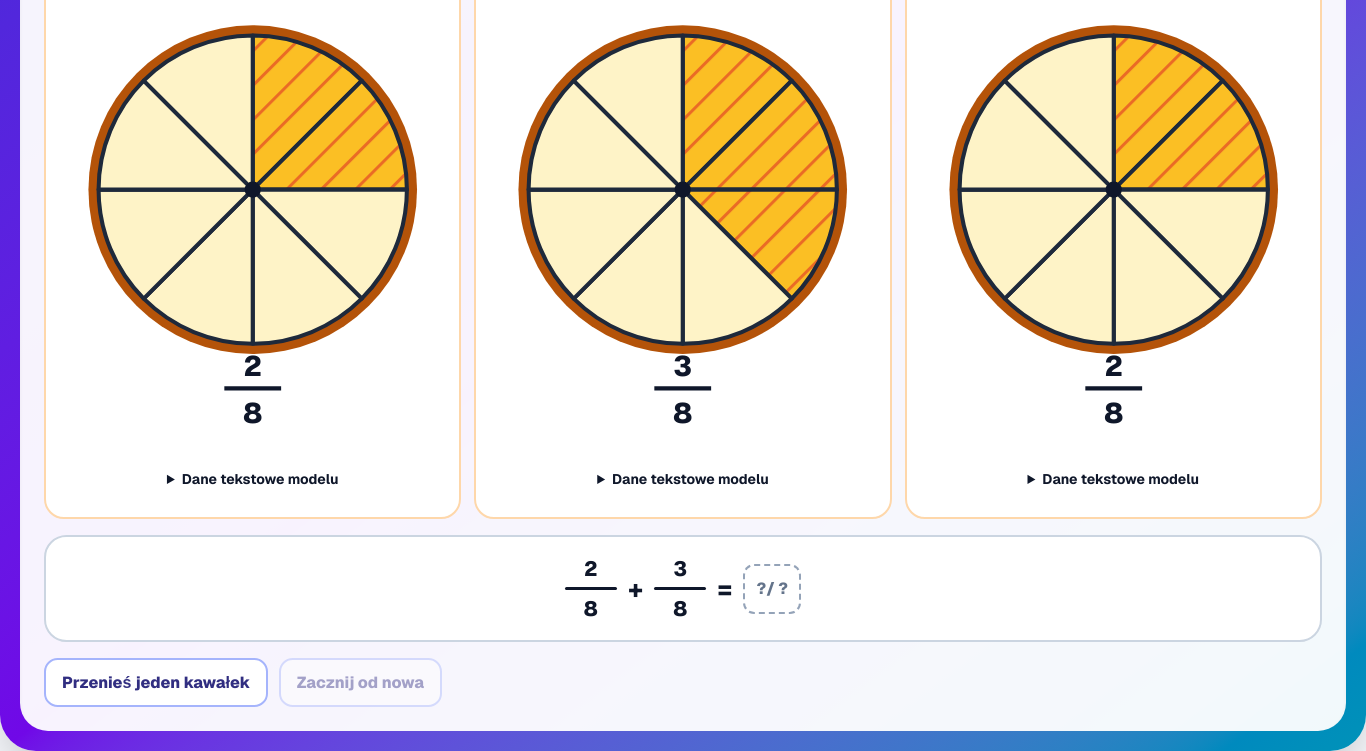
FractionSameDenominatorLessonModel — zapis pionowy, ruch i diagnostyka › przenosi trzy kawałki pizzy i aktualizuje 2/8 + 3/8 do 5/8 w czasie rzeczywistym
(page scrolled)
Click the button "Przenieś jeden kawałek" at (156, 683), box [44, 658, 268, 707]
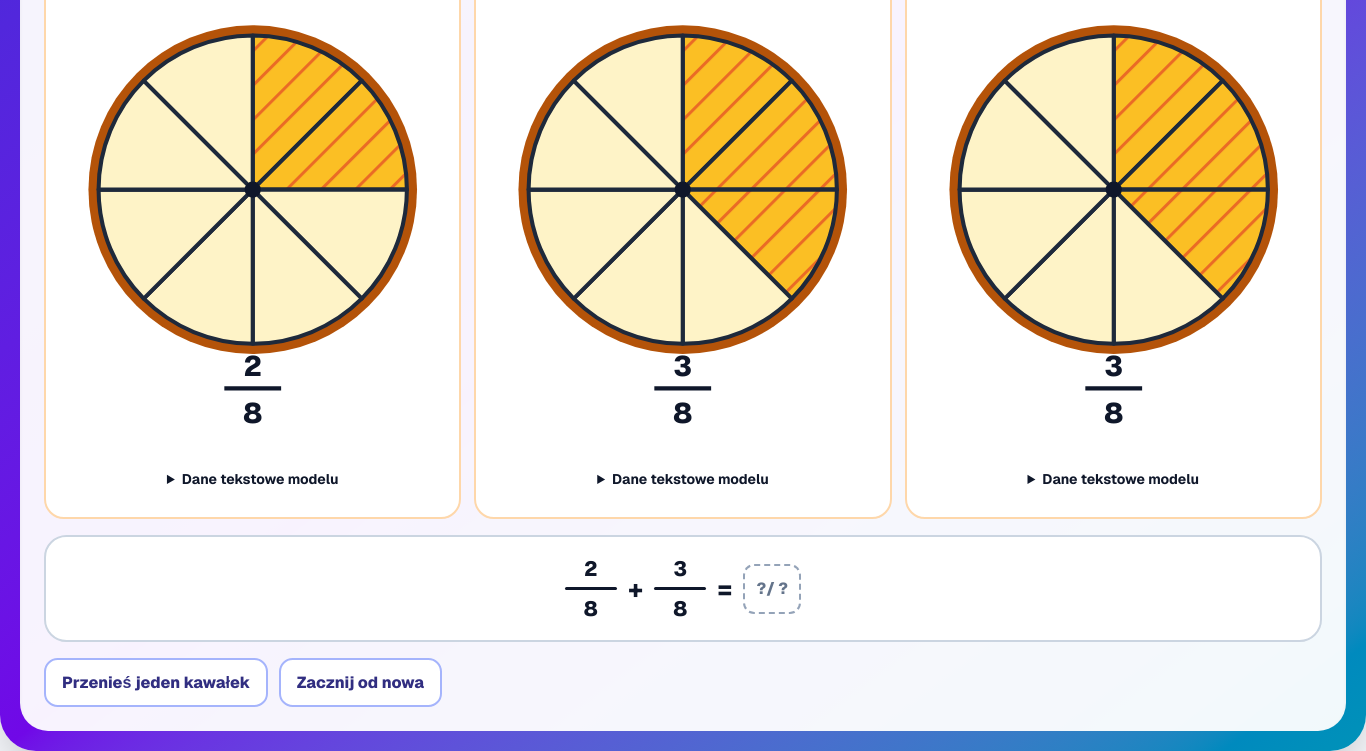
Click the button "Przenieś jeden kawałek" at (156, 683), box [44, 658, 268, 707]
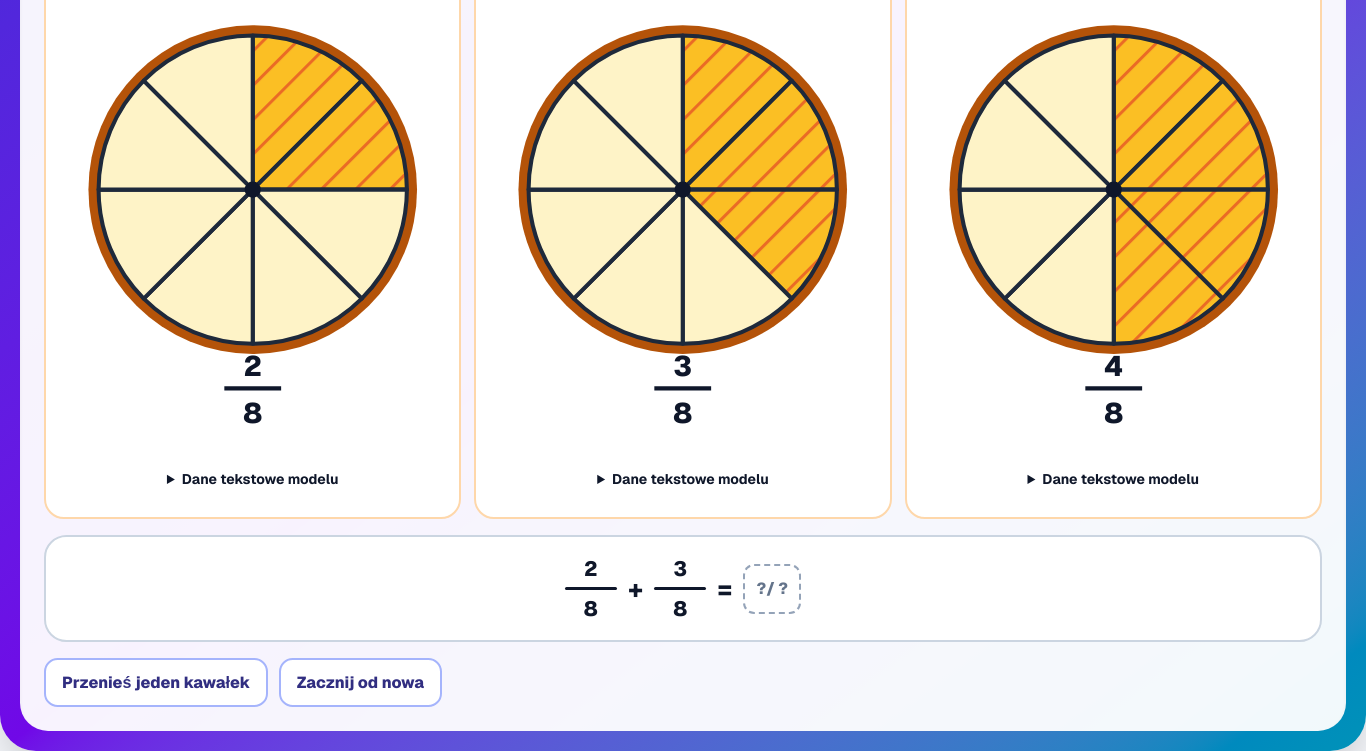
Click the button "Przenieś jeden kawałek" at (156, 683), box [44, 658, 268, 707]
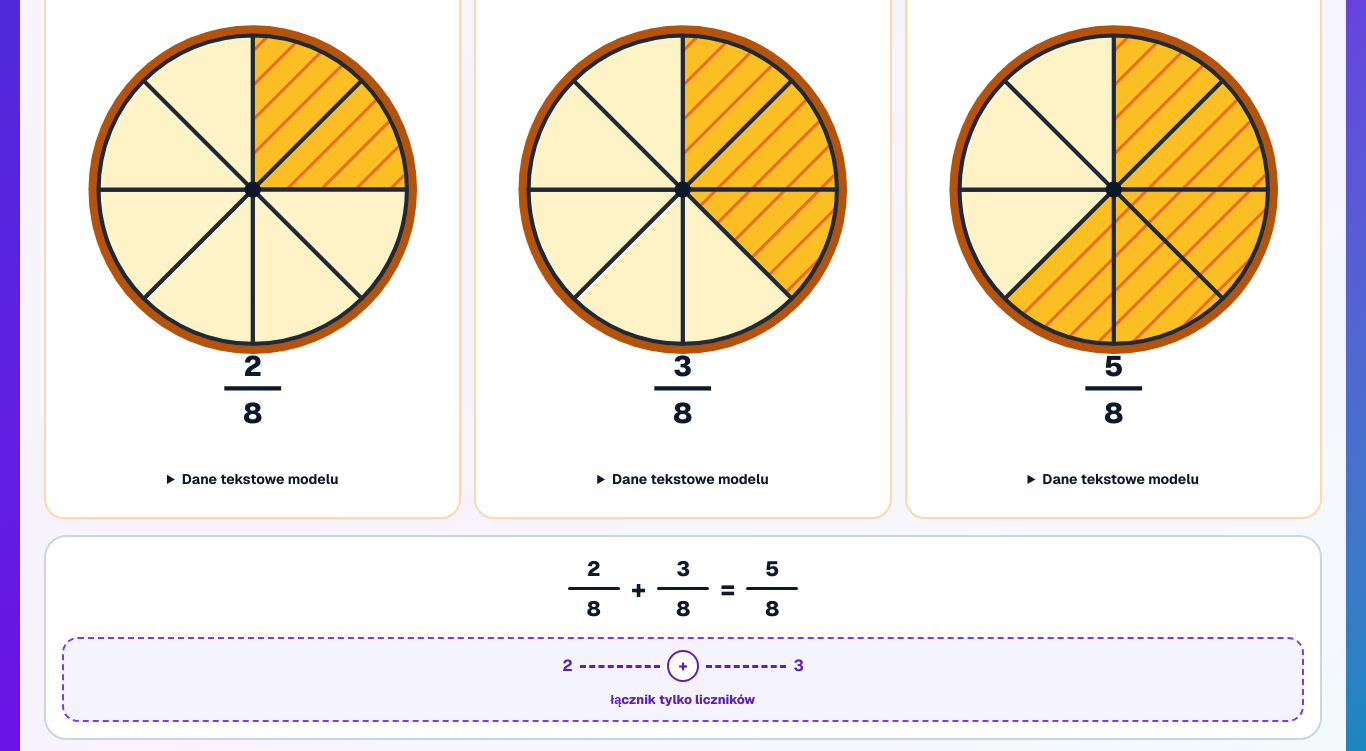
expect the element showing "2 + 3 łącznik tylko liczników" is shown: met, box [62, 637, 1304, 722]
